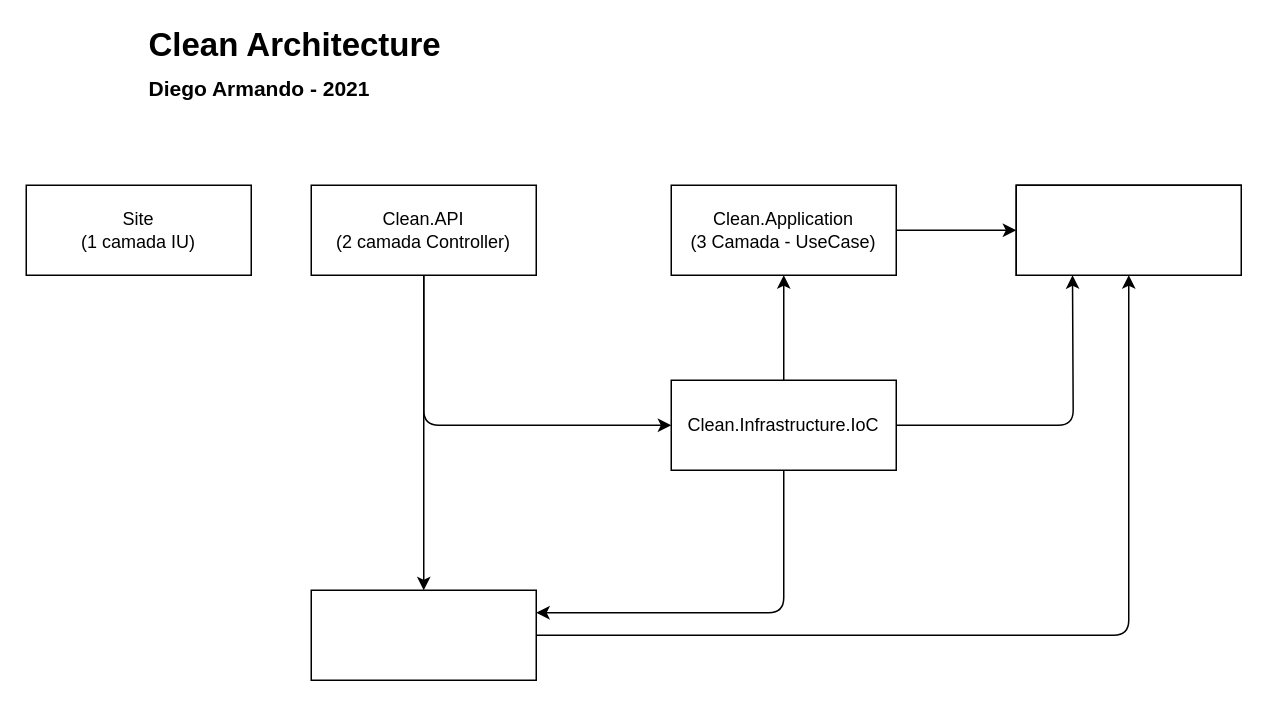
Some shapes in this 1268 by 707 pixel diagram are drawn without their labels. Here are the shapes that lost their labels. From the top down, the box of each, then its label:
(1015, 184, 1241, 275): Clean.Domain (3 Camada - Domain)
(310, 589, 536, 680): Clean.Infrastructure.Data
